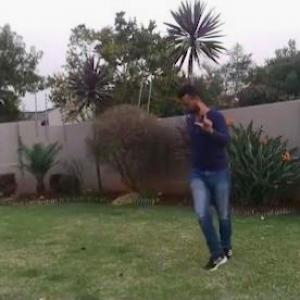land_hand: (194, 105, 218, 138)
